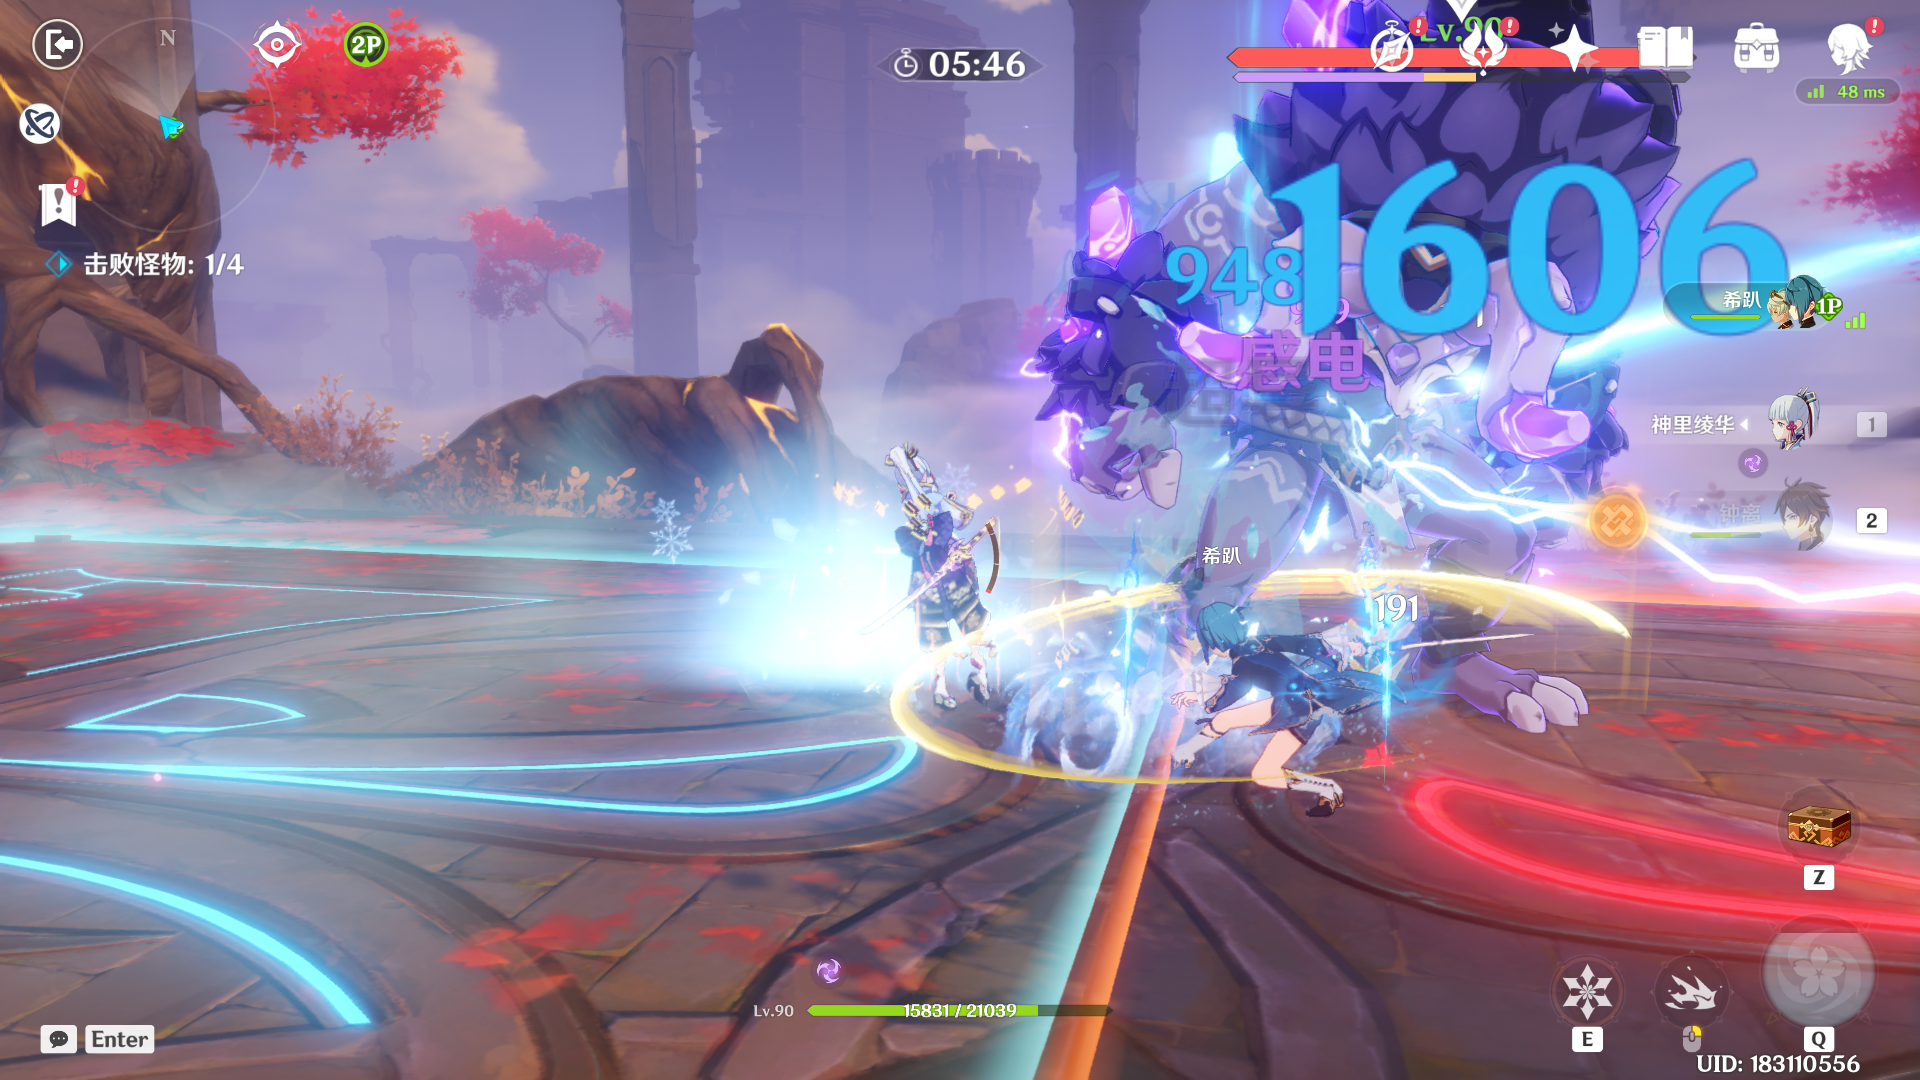bosshili: (1029, 1, 1784, 828)
character: (841, 434, 1036, 745), (1141, 587, 1377, 824)
